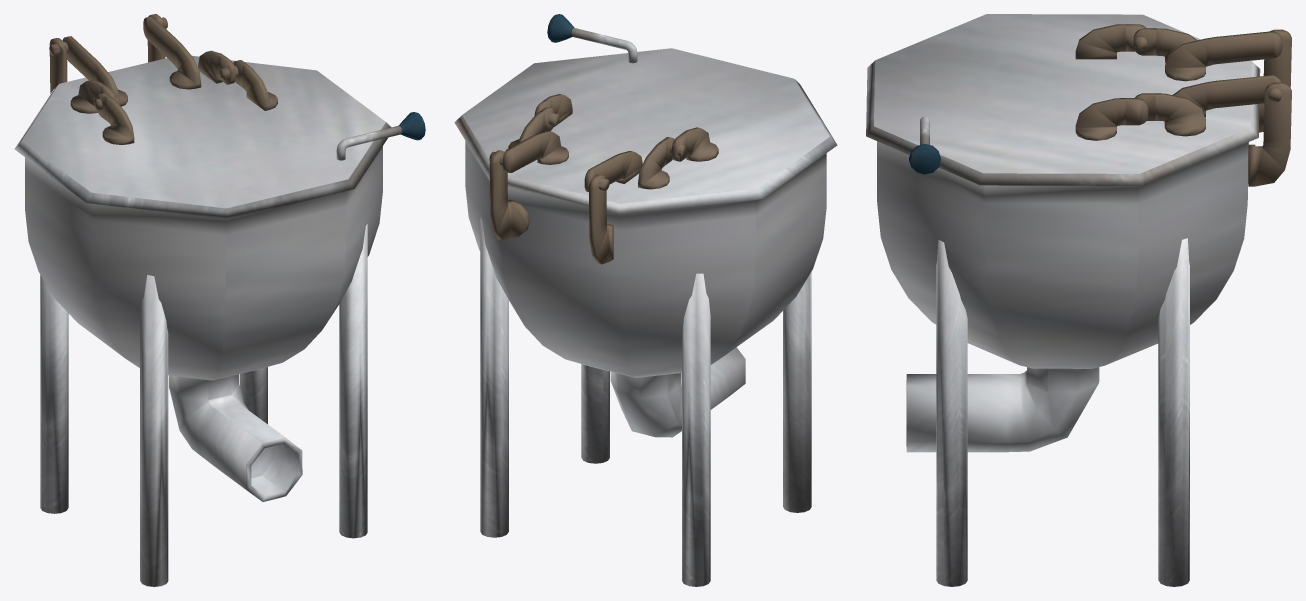
File: PotLarge_Galley.obj
3 renders of one model, left to right at view 1: azimuth 30°, elevation 25°; view 2: azimuth 150°, elevation 25°; view 3: azimuth 270°, elevation 25°, orthographic. The views are drawn at different scales.
Parts seen in each view (by area): view 1: PotLarge_Galley.obj; view 2: PotLarge_Galley.obj; view 3: PotLarge_Galley.obj.
Boxes of the visible parts, left/top/right/bottom form: PotLarge_Galley.obj: left=14, top=14, right=425, bottom=586; PotLarge_Galley.obj: left=454, top=14, right=837, bottom=586; PotLarge_Galley.obj: left=866, top=14, right=1291, bottom=586.
Size of the model in its own units: 3.51 by 4.63 by 3.79.
